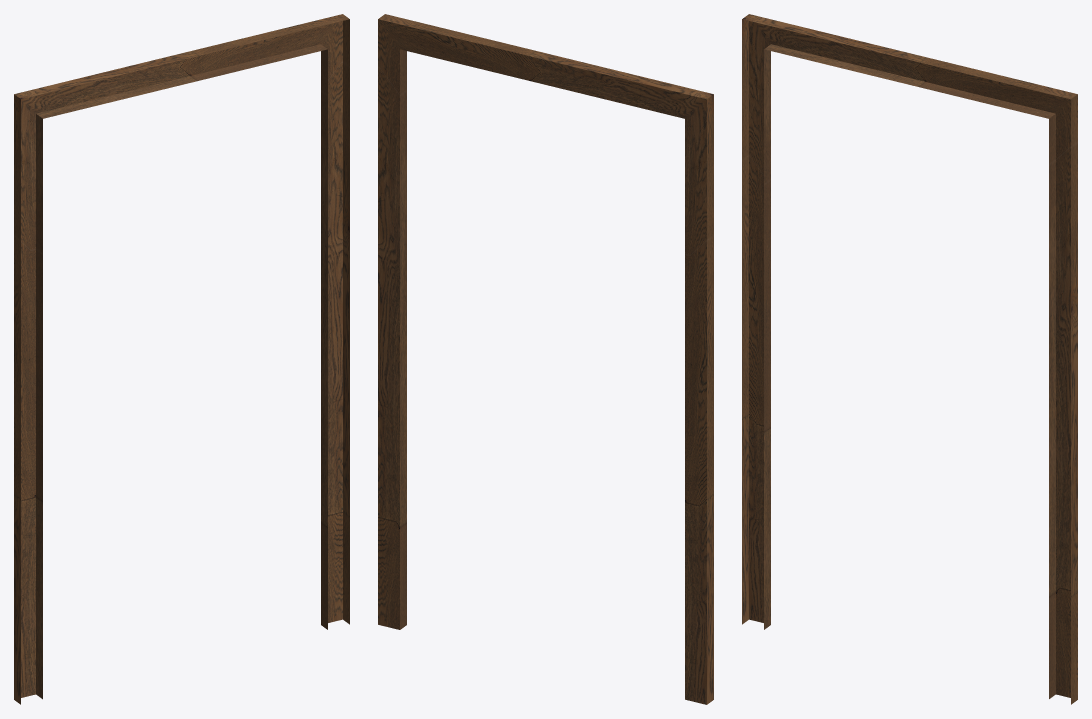
File: stage4_door_thickness.fbx
3 renders of one model, left to right at view 1: azimuth 30°, elevation 25°; view 2: azimuth 150°, elevation 25°; view 3: azimuth 330°, elevation 25°, orthographic.
Parts seen in each view (by area): view 1: stage4_door_thickness; view 2: stage4_door_thickness; view 3: stage4_door_thickness.
Part boxes in pixels (left/top/right/bottom): stage4_door_thickness: left=14, top=14, right=349, bottom=704; stage4_door_thickness: left=378, top=14, right=713, bottom=704; stage4_door_thickness: left=742, top=14, right=1077, bottom=704.
Size of the model in its own units: 125 by 219 by 4.63.
